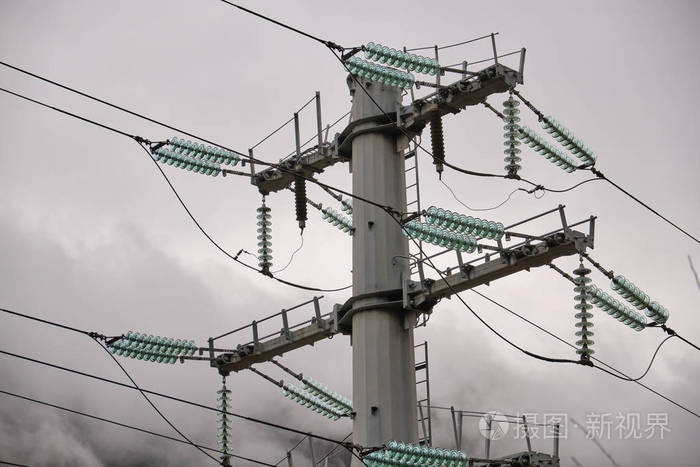insulator: (149, 137, 240, 176), (606, 274, 672, 327), (279, 378, 352, 422), (539, 115, 597, 169), (101, 333, 195, 365), (360, 442, 469, 466), (400, 221, 479, 254), (588, 287, 647, 331), (424, 207, 505, 239), (365, 41, 441, 75), (572, 266, 600, 356), (519, 130, 577, 171), (343, 58, 418, 87), (500, 98, 523, 171), (213, 389, 234, 460), (253, 205, 275, 270), (317, 203, 352, 238)
